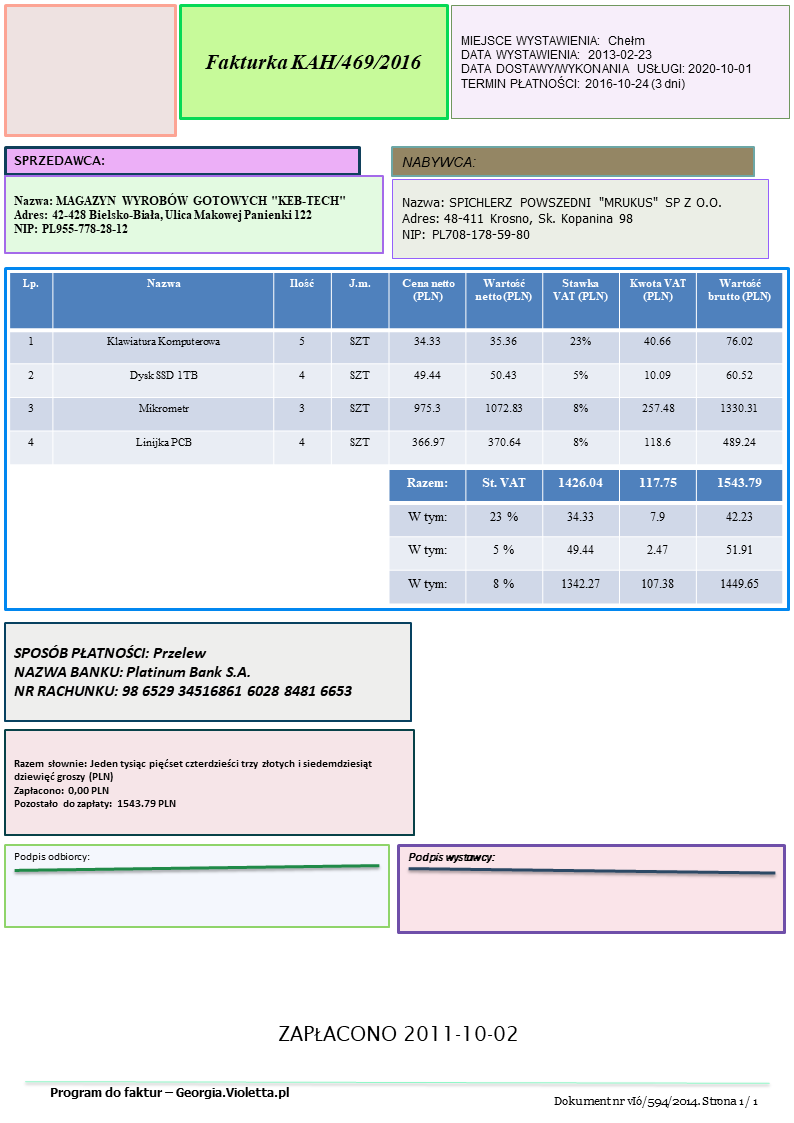Table: (10, 274, 787, 468), (389, 469, 785, 607)
TextBox: (10, 755, 377, 811), (10, 643, 357, 701), (459, 31, 755, 93), (399, 193, 723, 244), (11, 190, 350, 238), (201, 46, 425, 76), (275, 1021, 521, 1047), (46, 1083, 291, 1102), (551, 1092, 761, 1110), (12, 151, 106, 170), (398, 151, 478, 172), (404, 849, 496, 867), (11, 849, 90, 865)
